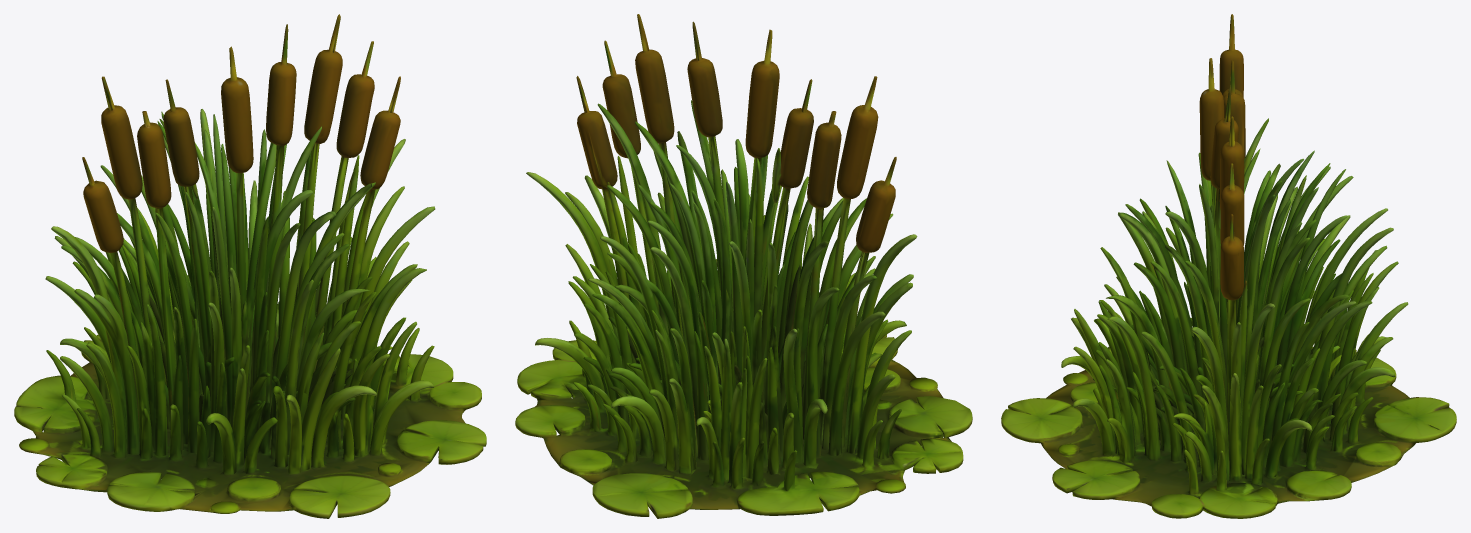
The model's file is cattails1.glb.
The picture shows the model from 3 angles, left to right: view 1: azimuth 30°, elevation 25°; view 2: azimuth 150°, elevation 25°; view 3: azimuth 270°, elevation 25°; orthographic projection. The views are drawn at different scales.
Visible parts, largest first — view 1: node_0; view 2: node_0; view 3: node_0.
Part boxes in pixels (box(x1,y1,x2,y2)): node_0: box(14, 14, 486, 518); node_0: box(515, 14, 972, 518); node_0: box(1001, 14, 1456, 518).
Bounding box in the file's own units: 0.8852 × 0.7835 × 0.902.
Materials: 1 (1 with a texture image).
